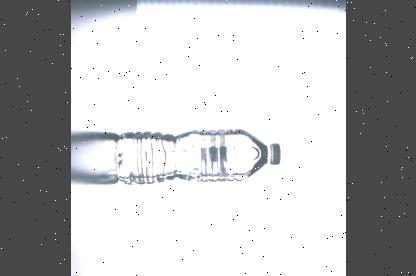Plastic Bottle: (114, 129, 280, 185)
